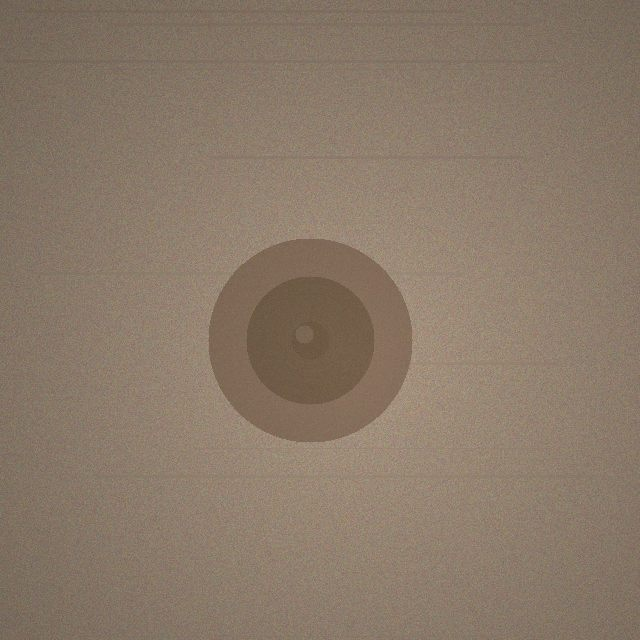good: (208, 238, 412, 442)
